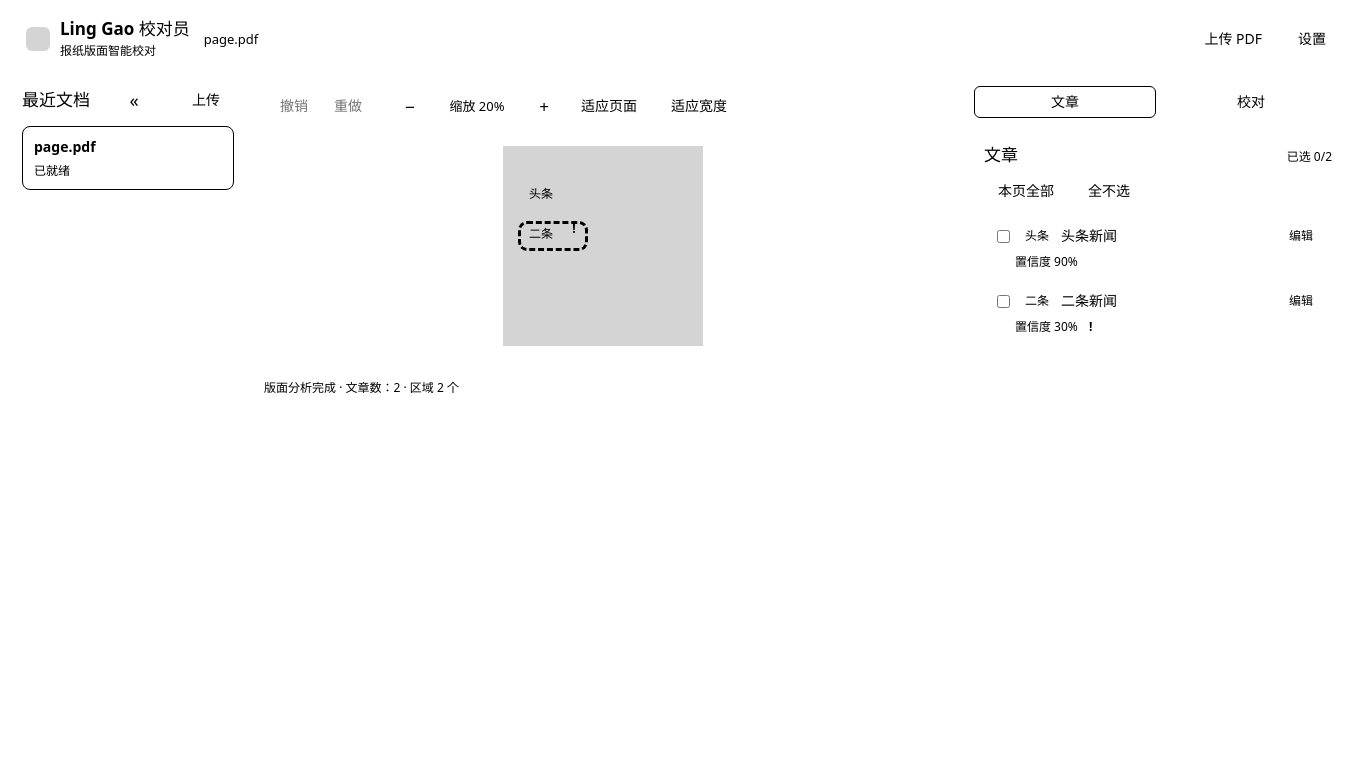
Test: App layout integration › changes the region kind through the inspector and keeps it on the box
Earlier steps of the test are not shown.
Click the button "头条": x=541, y=194 [529, 185, 553, 202]
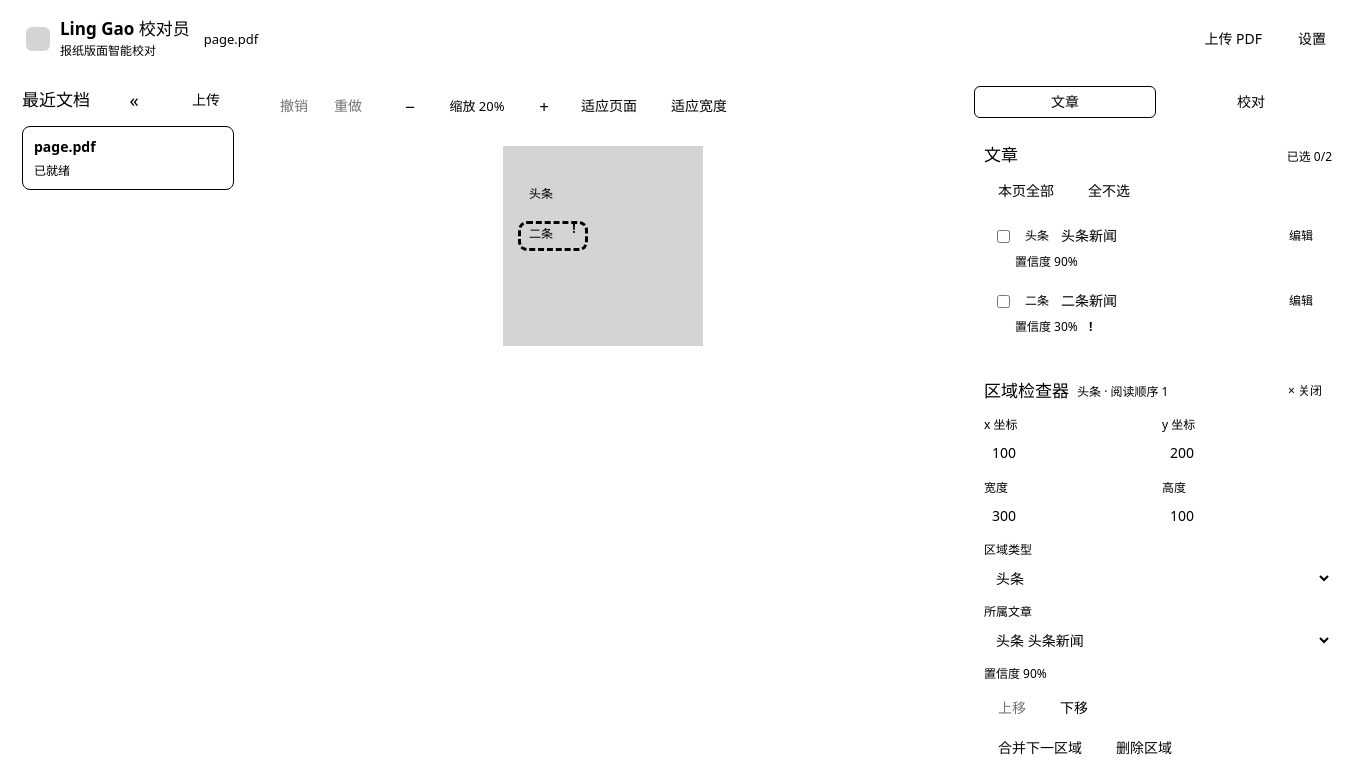
Select "广告" in the dropdown labelled "区域类型": x=1158, y=578 [984, 562, 1332, 594]
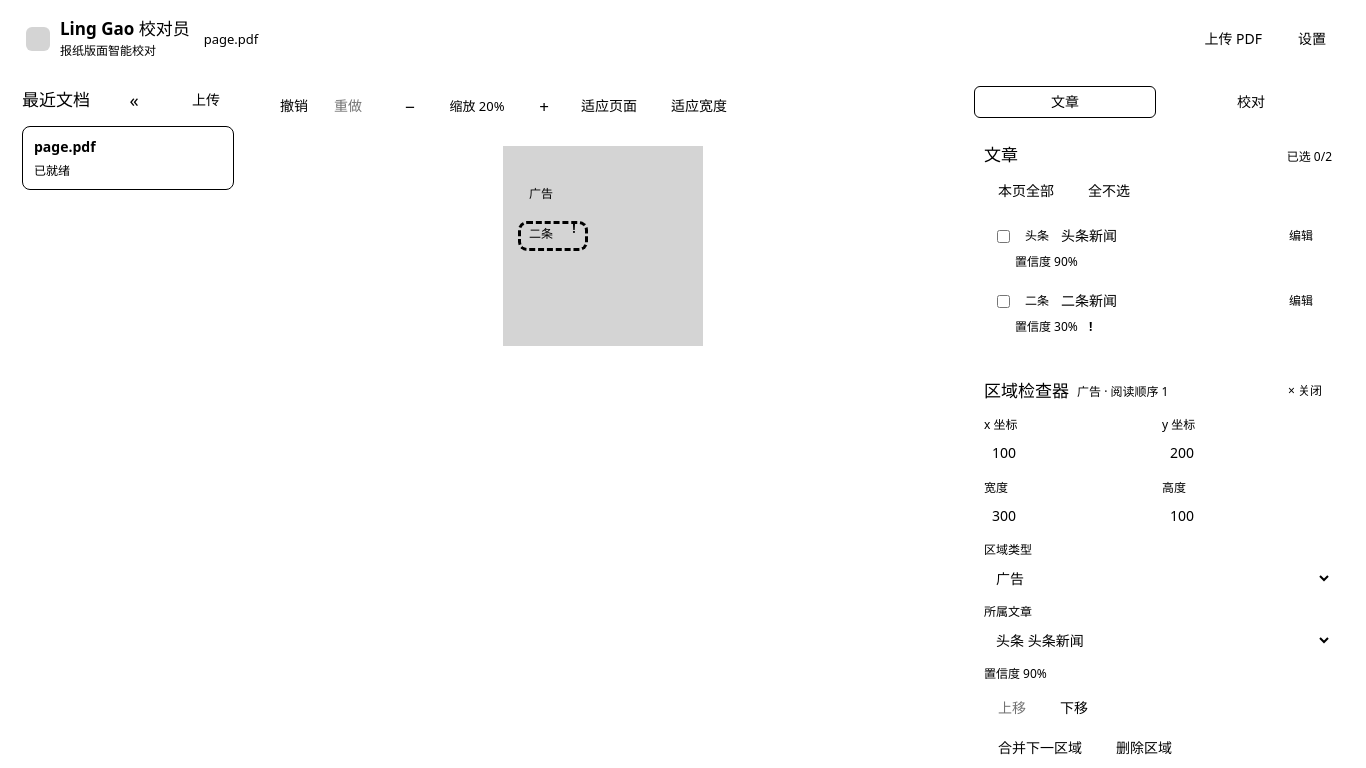
Expected: the button "广告" is shown, [529, 185, 553, 202]
